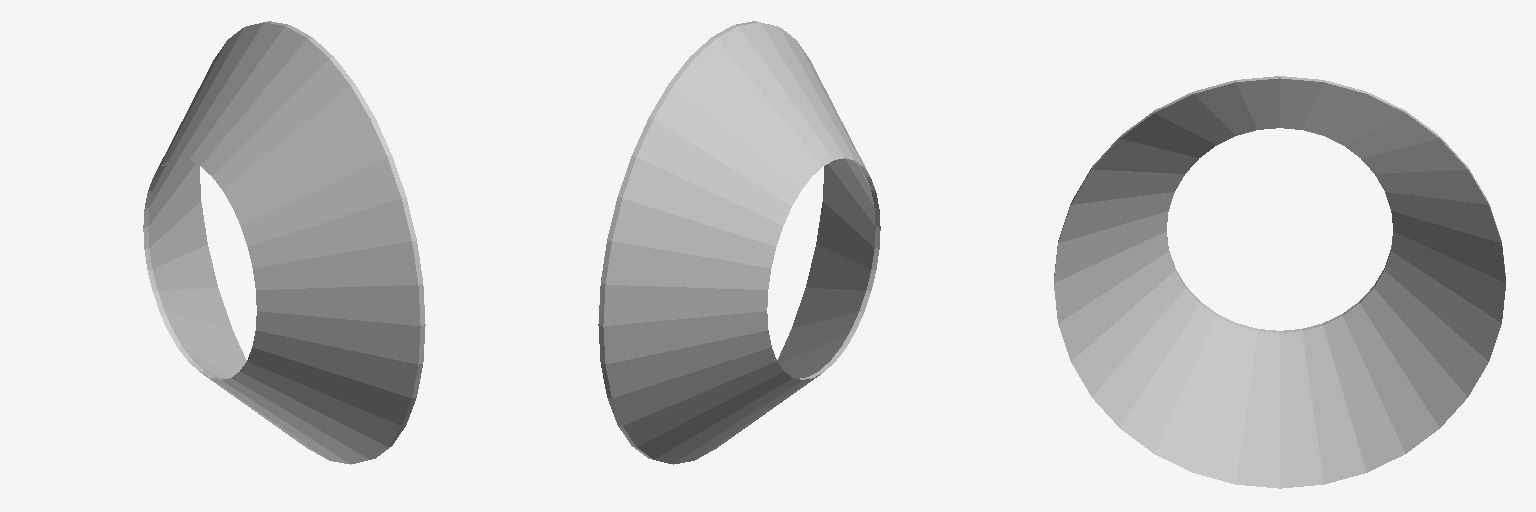
Rendered from RightFront.obj.
The picture shows the model from 3 angles: view 1: azimuth 30°, elevation 25°; view 2: azimuth 150°, elevation 25°; view 3: azimuth 270°, elevation 25°; orthographic projection.
Visible parts, largest first — view 1: Right; view 2: Right; view 3: Right.
Boxes of the visible parts, box(x1,y1,x2,y2) form: Right: box(143, 21, 425, 464); Right: box(598, 21, 880, 464); Right: box(1054, 76, 1505, 488).
Size of the model in its own units: 0.019 by 0.066 by 0.066.